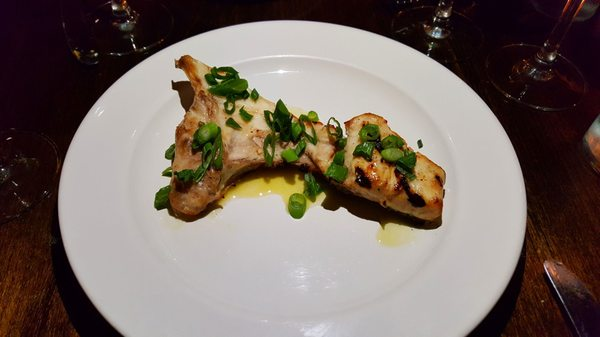pizza: (59, 1, 175, 65)
sandwich: (543, 258, 600, 336)
